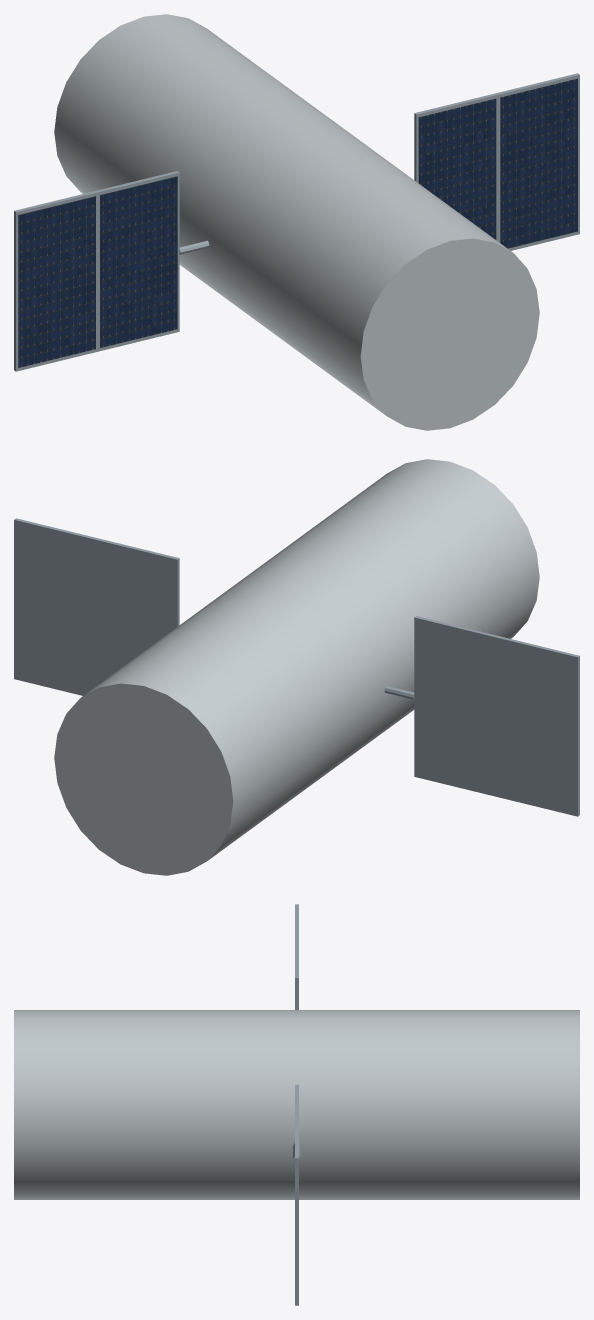
Rendered from ref-pion-nks-48865.glb.
3 views of the same model, one above another, from view 1: azimuth 30°, elevation 25°; view 2: azimuth 150°, elevation 25°; view 3: azimuth 270°, elevation 25° (orthographic). The views are drawn at different scales.
Visible parts, largest first — view 1: Spacecraft body, Photovoltaic laminates (×4), Array frame (×4); view 2: Spacecraft body, Array frame (×4); view 3: Spacecraft body, Array frame.
Part boxes in pixels (<box>): Spacecraft body: <box>54,14,539,430</box>; Photovoltaic laminates (×4): <box>18,78,577,367</box>; Array frame (×4): <box>14,73,579,371</box>; Spacecraft body: <box>54,459,539,875</box>; Array frame (×4): <box>14,518,579,816</box>; Spacecraft body: <box>14,1010,579,1199</box>; Array frame: <box>295,1121,298,1305</box>.
Bounding box in the file's own units: 8.5 × 2.7 × 8.
Materials: 3 (1 with a texture image).
